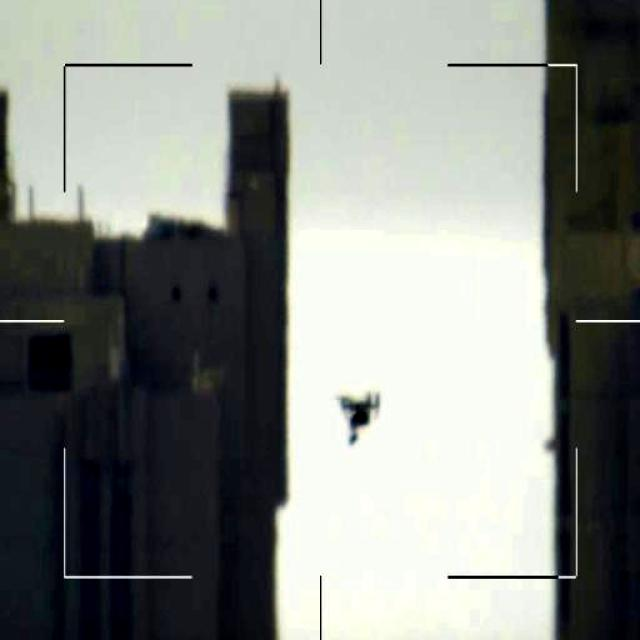bird: (331, 372, 389, 459)
